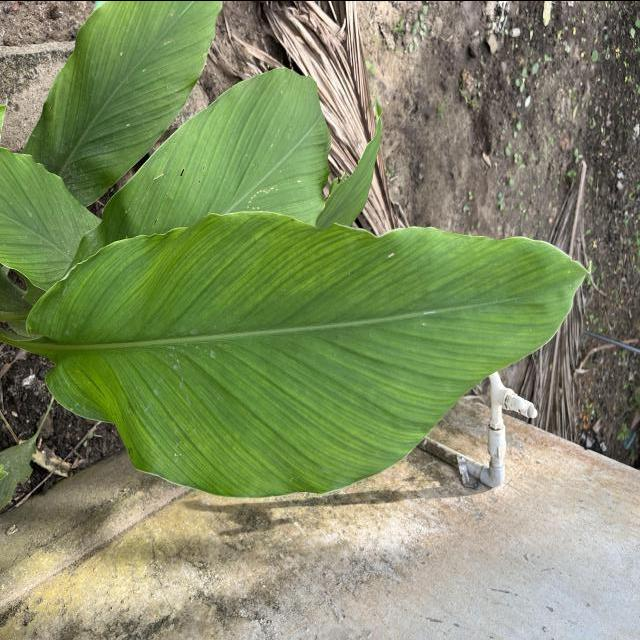Curcuma longa: (14, 202, 604, 504)
